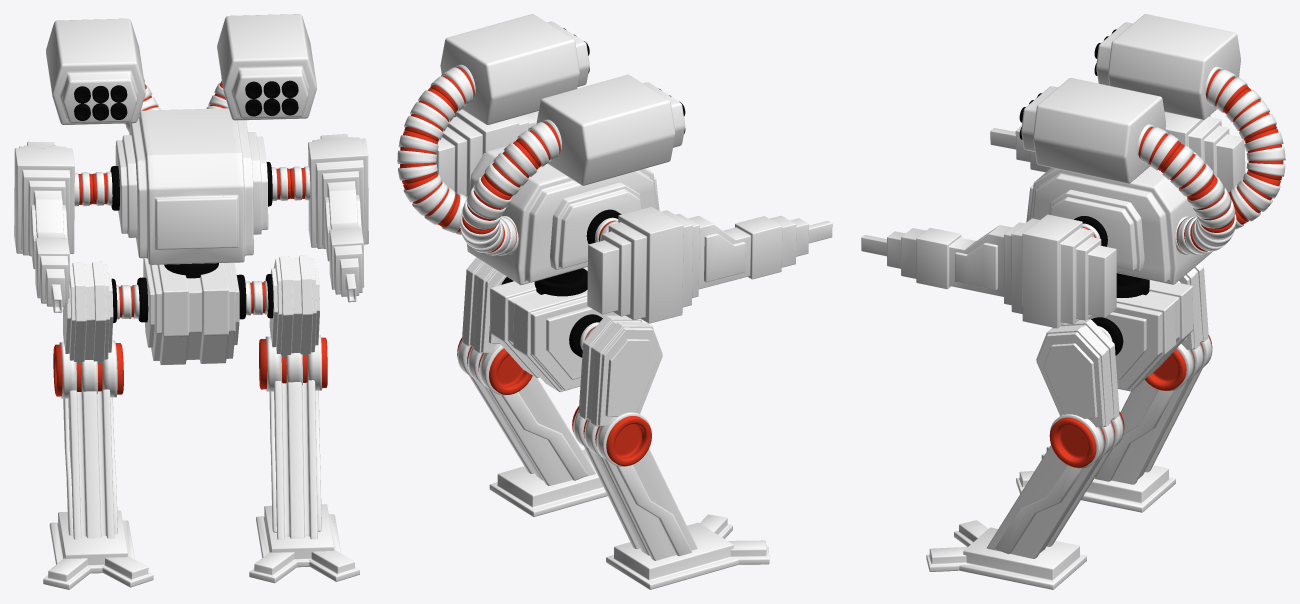
File: fighter-robot-3d-animated-icon-817907564813.glb
3 views of the same model, side by side, from view 1: azimuth 30°, elevation 25°; view 2: azimuth 150°, elevation 25°; view 3: azimuth 270°, elevation 25° (orthographic). The views are drawn at different scales.
Visible parts, largest first — view 1: Cube.154, Plane.029, Plane.028, Plane.001, Plane.002, Cube.156, Cube.161, Cube.164, Plane.025, Cube.159, Cube.163, Plane.022 (+14 smaller); view 2: Plane.029, Plane.002, Plane.001, Cube.154, Cylinder.205, Cube.163, Cylinder.206, Cube.156, Plane.025, Cube.164, Cube.161, Plane.028 (+10 smaller); view 3: Plane.028, Plane.001, Plane.002, Cube.154, Cube.159, Cylinder.206, Cylinder.205, Plane.022, Cube.156, Cube.161, Plane.029, Cube.155 (+9 smaller).
Boxes of the visible parts, bbox=[...] form: Cube.154: bbox=[129, 108, 253, 264]; Plane.029: bbox=[14, 141, 74, 312]; Plane.028: bbox=[308, 134, 368, 302]; Plane.001: bbox=[217, 14, 316, 120]; Plane.002: bbox=[46, 18, 145, 124]; Cube.156: bbox=[150, 262, 235, 365]; Cube.161: bbox=[274, 380, 317, 539]; Cube.164: bbox=[68, 389, 114, 539]; Plane.025: bbox=[43, 510, 153, 589]; Cube.159: bbox=[269, 255, 319, 356]; Cube.163: bbox=[63, 261, 113, 363]; Plane.022: bbox=[249, 504, 359, 583]; Plane.029: bbox=[587, 207, 832, 323]; Plane.002: bbox=[536, 74, 685, 185]; Plane.001: bbox=[440, 14, 589, 124]; Cube.154: bbox=[467, 145, 659, 285]; Cylinder.205: bbox=[397, 64, 475, 235]; Cube.163: bbox=[578, 315, 662, 426]; Cylinder.206: bbox=[460, 119, 561, 255]; Cube.156: bbox=[490, 267, 588, 391]; Plane.025: bbox=[606, 514, 769, 589]; Cube.164: bbox=[583, 445, 697, 560]; Cube.161: bbox=[469, 375, 595, 485]; Plane.028: bbox=[435, 109, 538, 196]; Plane.028: bbox=[861, 214, 1116, 328]; Plane.001: bbox=[1021, 78, 1165, 183]; Plane.002: bbox=[1096, 14, 1240, 119]; Cube.154: bbox=[1026, 152, 1211, 284]; Cube.159: bbox=[1036, 319, 1119, 427]; Cylinder.206: bbox=[1205, 66, 1285, 229]; Cylinder.205: bbox=[1137, 124, 1236, 254]; Plane.022: bbox=[926, 520, 1086, 589]; Cube.156: bbox=[1052, 280, 1193, 391]; Cube.161: bbox=[987, 445, 1113, 558]; Plane.029: bbox=[990, 112, 1245, 192]; Cube.155: bbox=[1049, 189, 1144, 271].
Size of the model in its own units: 7.46 by 9.72 by 7.96.
